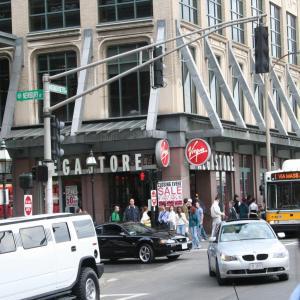Vehicle-registration-plate: (251, 266, 265, 272), (183, 244, 189, 250)
